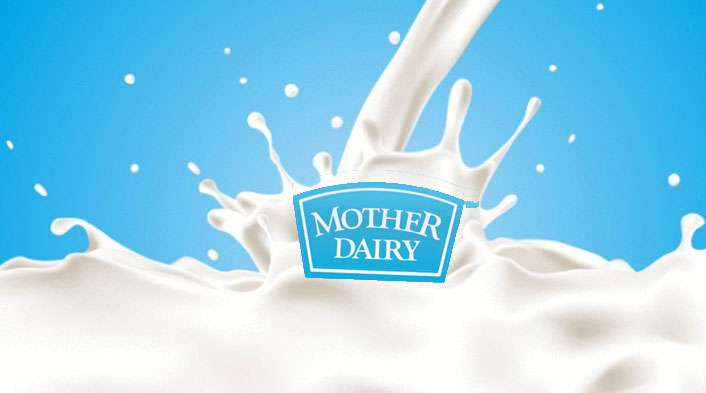Mother_Dairy: (289, 180, 467, 295)
